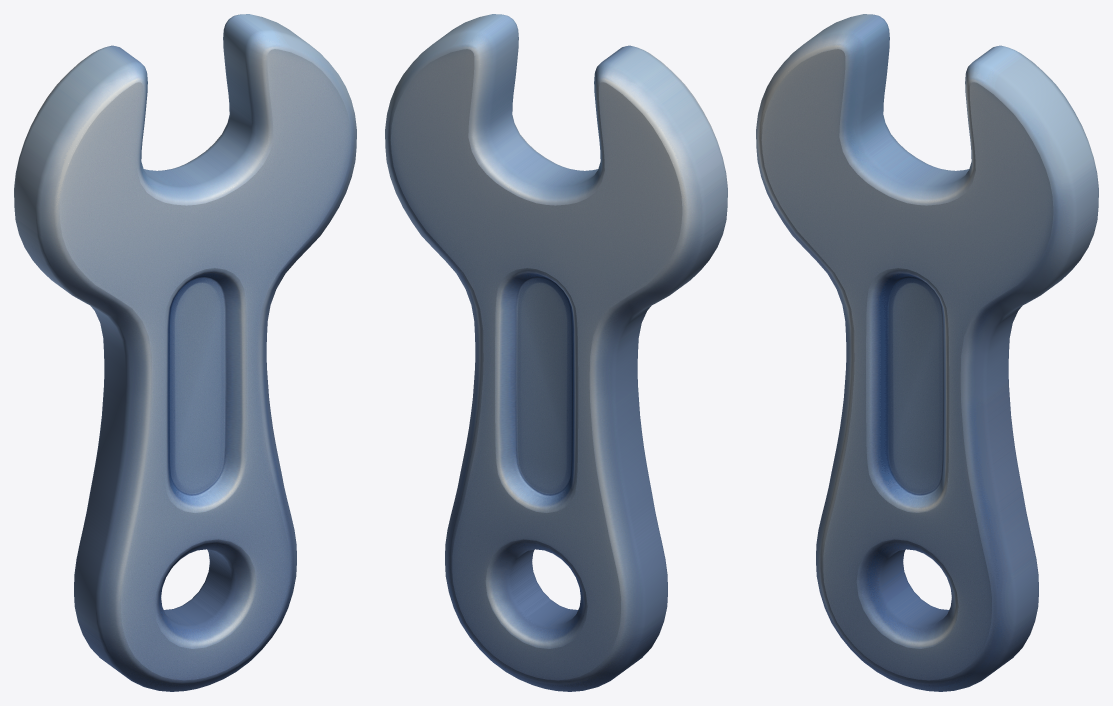
File: Wrench.fbx
3 renders of one model, left to right at view 1: azimuth 30°, elevation 25°; view 2: azimuth 150°, elevation 25°; view 3: azimuth 330°, elevation 25°, orthographic.
Visible parts, largest first — view 1: Wrench; view 2: Wrench; view 3: Wrench.
Part boxes in pixels (bbox=[...]): Wrench: bbox=[14, 14, 356, 691]; Wrench: bbox=[385, 14, 727, 691]; Wrench: bbox=[756, 14, 1098, 691].
Size of the model in its own units: 0.8456 by 1.62 by 0.1817.
